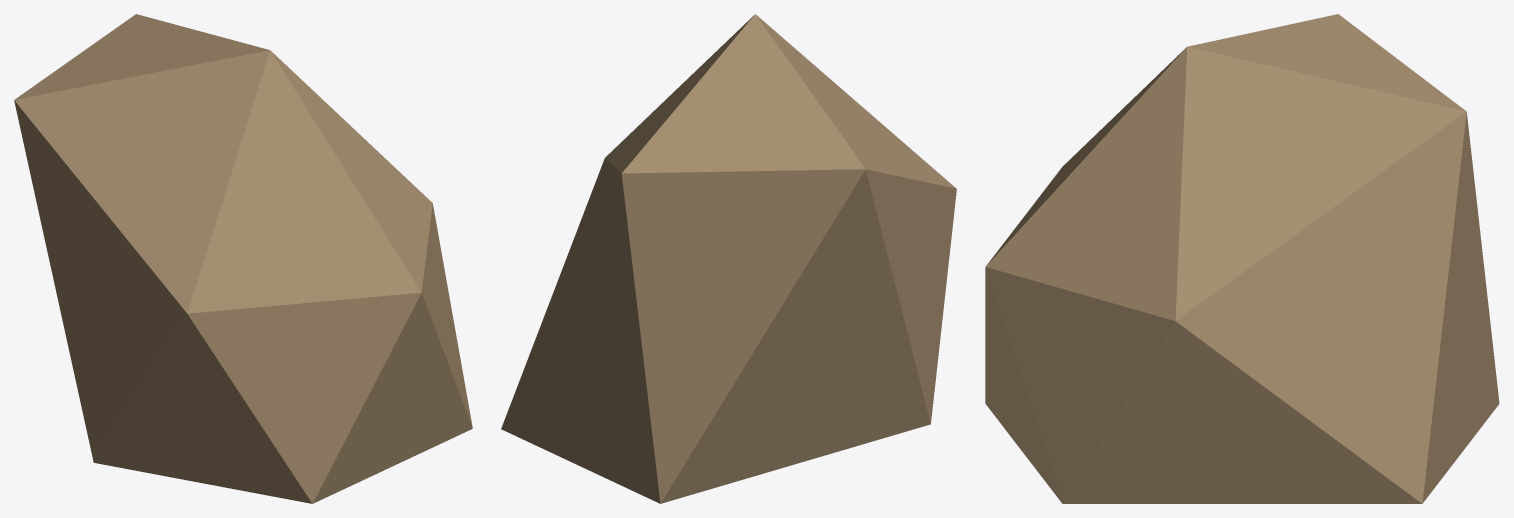
Rendered from Rock.fbx.
The picture shows the model from 3 angles, left to right: view 1: azimuth 30°, elevation 25°; view 2: azimuth 150°, elevation 25°; view 3: azimuth 270°, elevation 25°; orthographic projection. The views are drawn at different scales.
Visible parts, largest first — view 1: Icosphere; view 2: Icosphere; view 3: Icosphere.
Boxes of the visible parts, x1,y1,x2,y2 form: Icosphere: [14, 14, 472, 503]; Icosphere: [501, 14, 956, 503]; Icosphere: [985, 14, 1499, 503].
Size of the model in its own units: 2.19 by 2.45 by 2.75.
